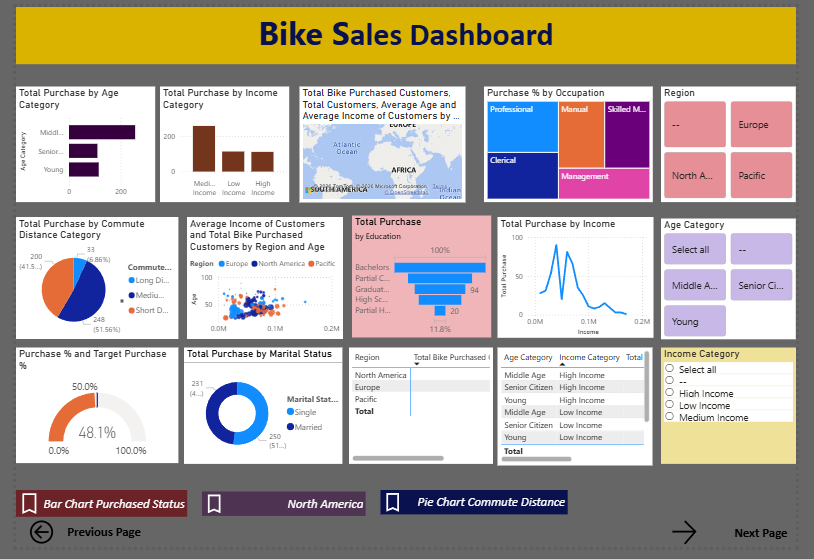

This screenshot's page, from the dashboard's own definition file:
{"tool":"powerbi","page":{"name":"Data Visualization","canvas":[1300,900],"ordinal":1},"visuals":[{"type":"barChart","fields":{"Category":["Bike Sales Data.Age Category"],"Y":["Bike Sales Data.Total Purchase"]},"box":[0,132.9,232.2,192.5],"z":0},{"type":"pieChart","fields":{"Category":["Bike Sales Data.Commute Distance Category"],"Y":["Bike Sales Data.Total Purchase"]},"box":[0,349.8,270.4,203.2],"z":1000},{"type":"gauge","fields":{"Y":["Bike Sales Data.Purchase %"],"TargetValue":["Bike Sales Data.Target Purchase %"]},"box":[0,568.3,270.4,192.5],"z":2000},{"type":"scatterChart","fields":{"Size":["Bike Sales Data.Total Bike Purchased Customers"],"X":["Bike Sales Data.Average Income of Customers"],"Y":["Bike Sales Data.Age"],"Series":["Bike Sales Data.Region"]},"box":[285.7,349.8,259.7,203.2],"z":3000},{"type":"clusteredColumnChart","fields":{"Category":["Bike Sales Data.Income Category"],"Y":["Bike Sales Data.Total Purchase"]},"box":[239.8,132.9,215.4,192.5],"z":4000},{"type":"donutChart","fields":{"Y":["Bike Sales Data.Total Purchase"],"Category":["Bike Sales Data.Marital Status"]},"box":[281.1,566.7,264.3,194],"z":5000},{"type":"pivotTable","fields":{"Rows":["Bike Sales Data.Region"],"Values":["Bike Sales Data.Total Bike Purchased Customers"]},"box":[556.1,566.7,239.8,194],"z":6000},{"type":"map","fields":{"Size":["Bike Sales Data.Total Bike Purchased Customers"],"Category":["Bike Sales Data.Region"]},"box":[473.6,132.9,276.5,192.5],"z":7000},{"type":"treemap","fields":{"Group":["Bike Sales Data.Occupation"],"Values":["Bike Sales Data.Purchase %"]},"box":[780.6,132.9,281.1,192.5],"z":8000},{"type":"funnel","fields":{"Y":["Bike Sales Data.Total Purchase"],"Category":["Bike Sales Data.Education"]},"box":[559.1,348.3,232.2,203.2],"z":9000},{"type":"tableEx","fields":{"Values":["Bike Sales Data.Age Category","Bike Sales Data.Income Category","Bike Sales Data.Total Customers","Bike Sales Data.Total Purchase","Bike Sales Data.Purchase %"]},"box":[803.5,566.7,258.2,195.5],"z":10000},{"type":"textbox","box":[0,0,1300.3,95.2],"z":11000},{"type":"actionButton","box":[1086.6,849.3,202.4,51.4],"z":12000},{"type":"lineChart","fields":{"Y":["Bike Sales Data.Total Purchase"],"Category":["Bike Sales Data.Income"]},"box":[802,349.8,259.7,201.6],"z":13000},{"type":"advancedSlicerVisual","fields":{"Values":["Bike Sales Data.Region"]},"box":[1075.4,132.9,224.6,192.5],"z":14000},{"type":"advancedSlicerVisual","fields":{"Values":["Bike Sales Data.Age Category"]},"box":[1075.4,351.4,224.6,201.6],"z":15000},{"type":"listSlicer","fields":{"Values":["Bike Sales Data.Income Category"]},"box":[1075,568,225,194],"z":16000},{"type":"actionButton","box":[16.7,849.8,194.8,50.1],"z":17000},{"type":"actionButton","box":[0,804.6,285.3,44.8],"z":18000},{"type":"actionButton","box":[170.9,471.1,13.3,39.8],"z":19000},{"type":"actionButton","box":[608.6,805.2,311.7,40.8],"z":20000},{"type":"actionButton","box":[309.8,807.1,272.7,40.8],"z":21000}]}

Visuals, with their boxes in screenshot pixels (x1, y1, x2, y2), scaled from the page's 1300x900 canvas onto the 814x559 screenshot:
barChart - Bike Sales Data.Age Category x Bike Sales Data.Total Purchase: select_region(0, 83, 145, 202)
pieChart - Bike Sales Data.Commute Distance Category x Bike Sales Data.Total Purchase: select_region(0, 217, 169, 343)
gauge - Bike Sales Data.Purchase % x Bike Sales Data.Target Purchase %: select_region(0, 353, 169, 473)
scatterChart - Bike Sales Data.Total Bike Purchased Customers x Bike Sales Data.Average Income of Customers: select_region(179, 217, 342, 343)
clusteredColumnChart - Bike Sales Data.Income Category x Bike Sales Data.Total Purchase: select_region(150, 83, 285, 202)
donutChart - Bike Sales Data.Total Purchase x Bike Sales Data.Marital Status: select_region(176, 352, 342, 472)
pivotTable - Bike Sales Data.Region x Bike Sales Data.Total Bike Purchased Customers: select_region(348, 352, 498, 472)
map - Bike Sales Data.Total Bike Purchased Customers x Bike Sales Data.Region: select_region(297, 83, 470, 202)
treemap - Bike Sales Data.Occupation x Bike Sales Data.Purchase %: select_region(489, 83, 665, 202)
funnel - Bike Sales Data.Total Purchase x Bike Sales Data.Education: select_region(350, 216, 495, 343)
tableEx - Bike Sales Data.Age Category x Bike Sales Data.Income Category: select_region(503, 352, 665, 473)
textbox: select_region(0, 0, 813, 59)
actionButton: select_region(680, 528, 807, 558)
lineChart - Bike Sales Data.Total Purchase x Bike Sales Data.Income: select_region(502, 217, 665, 342)
advancedSlicerVisual - Bike Sales Data.Region: select_region(673, 83, 813, 202)
advancedSlicerVisual - Bike Sales Data.Age Category: select_region(673, 218, 813, 343)
listSlicer - Bike Sales Data.Income Category: select_region(673, 353, 813, 473)
actionButton: select_region(10, 528, 132, 558)
actionButton: select_region(0, 500, 179, 528)
actionButton: select_region(107, 293, 115, 317)
actionButton: select_region(381, 500, 576, 525)
actionButton: select_region(194, 501, 365, 527)
